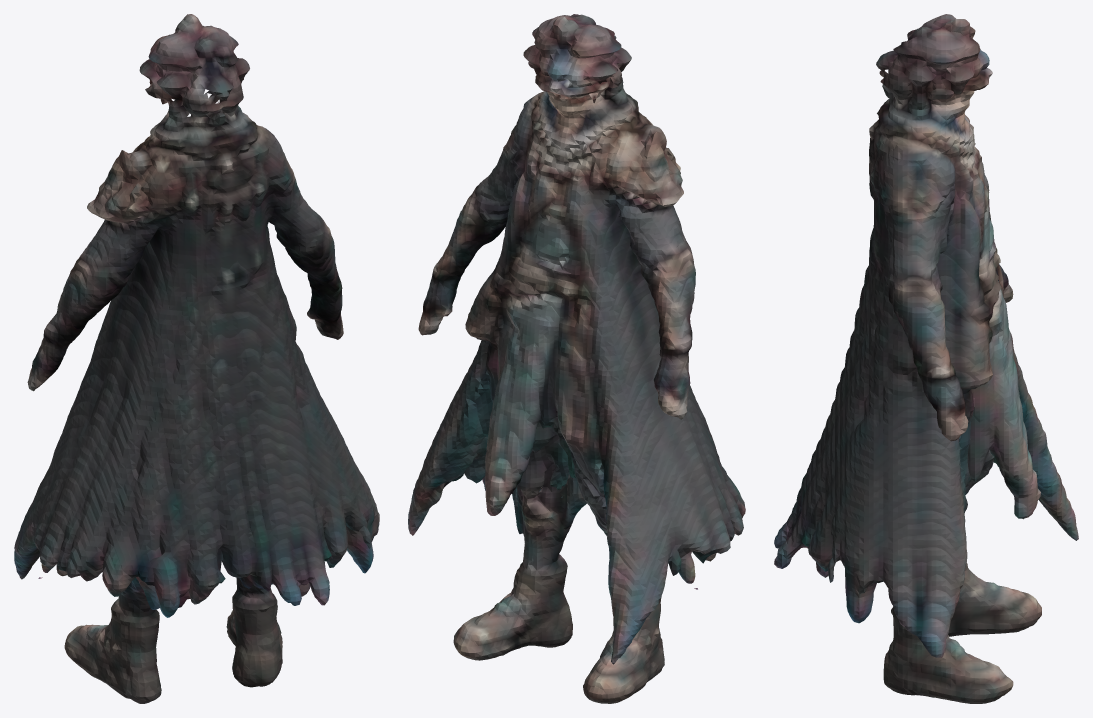
The model's file is starforge-traveler-triposr.glb.
3 views of the same model, side by side, from view 1: azimuth 30°, elevation 25°; view 2: azimuth 150°, elevation 25°; view 3: azimuth 270°, elevation 25° (orthographic).
Parts seen in each view (by area): view 1: world; view 2: world; view 3: world.
Part boxes in pixels (left/top/right/bottom): world: left=14, top=14, right=379, bottom=703; world: left=408, top=14, right=745, bottom=703; world: left=774, top=14, right=1078, bottom=703.
Bounding box in the file's own units: 0.5256 × 1.02 × 0.4309.
